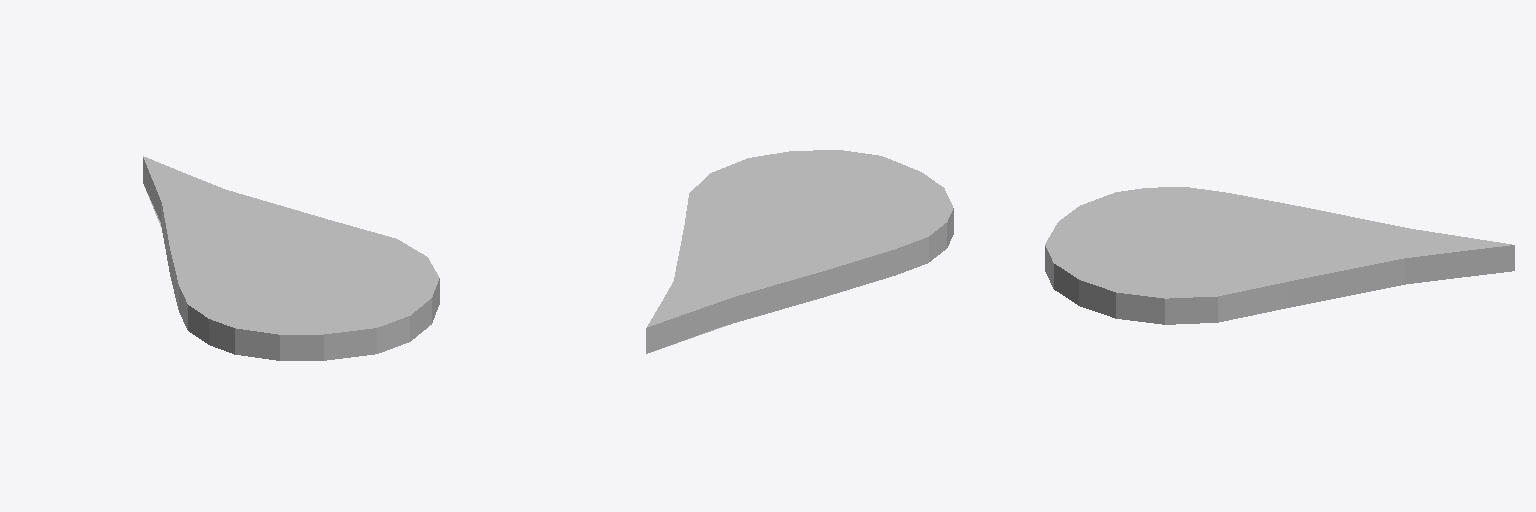
The model's file is Water.obj.
The picture shows the model from 3 angles: view 1: azimuth 30°, elevation 25°; view 2: azimuth 150°, elevation 25°; view 3: azimuth 270°, elevation 25°; orthographic projection.
Visible parts, largest first — view 1: Plane; view 2: Plane; view 3: Plane.
Part boxes in pixels (x1,y1,x2,y2): Plane: (143, 156, 439, 360); Plane: (646, 150, 953, 353); Plane: (1045, 187, 1514, 324).
Bounding box in the file's own units: 2.72 × 0.2987 × 4.84.